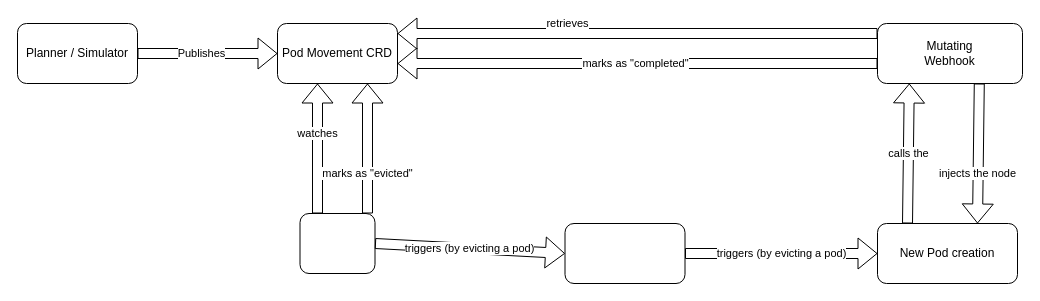
Some shapes in this 1040 by 301 pixel diagram are drawn without their labels. The centre of each missing label's shape, as x and y in pixels:
"Deployment / Stateful Set controller" goes at [624,253].
"Evictor" goes at [337,243].
